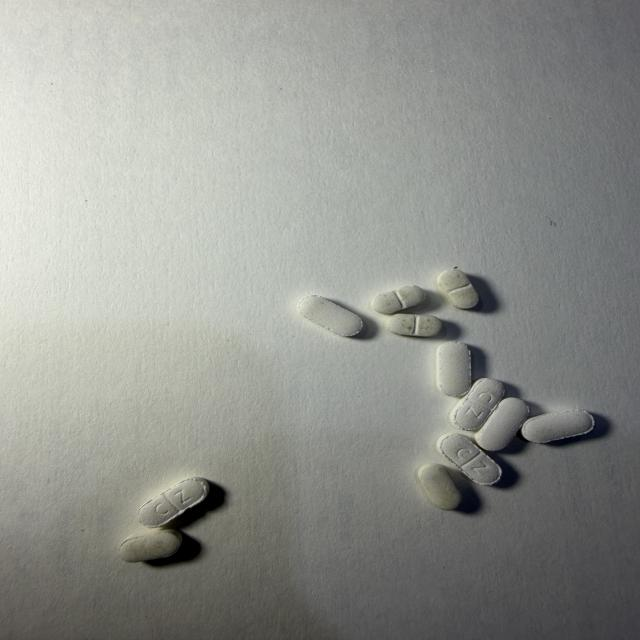pill: (138, 477, 209, 528), (438, 434, 501, 485), (451, 378, 504, 430), (476, 398, 528, 450), (298, 296, 362, 336), (522, 410, 594, 443), (119, 530, 182, 562), (417, 464, 460, 510), (437, 342, 471, 396), (438, 269, 478, 309), (372, 286, 425, 314), (387, 314, 441, 336)
